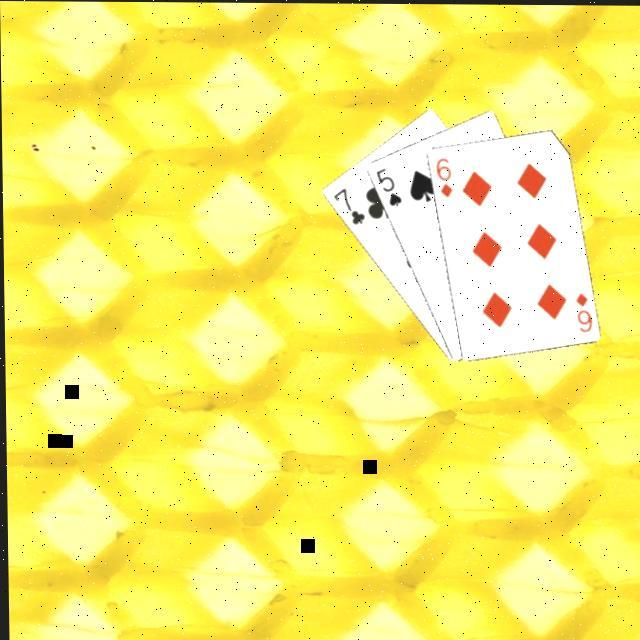5S: (370, 165, 403, 209)
6D: (570, 289, 594, 335), (431, 154, 454, 200)
7C: (328, 185, 366, 227)
